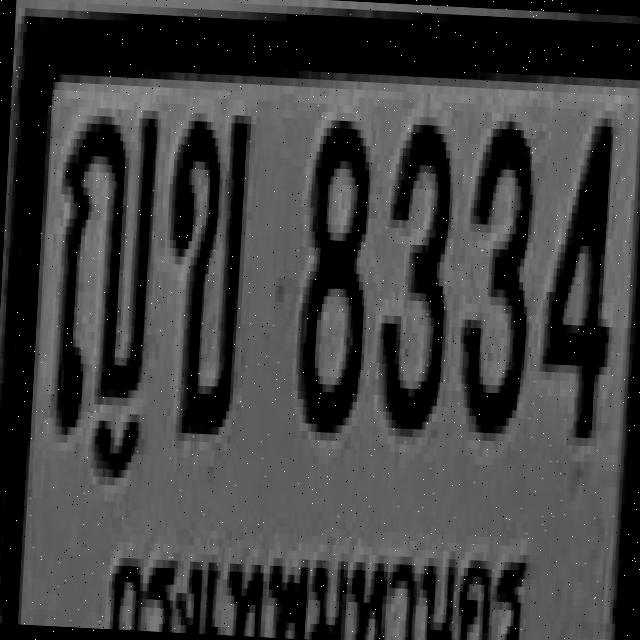11KhorKhai: (160, 112, 251, 436)
22YorYing: (53, 107, 158, 430)
3: (374, 112, 456, 434), (456, 120, 537, 434)
4: (540, 116, 618, 439)
8: (296, 111, 374, 434)
Bangkok: (107, 521, 531, 640)
